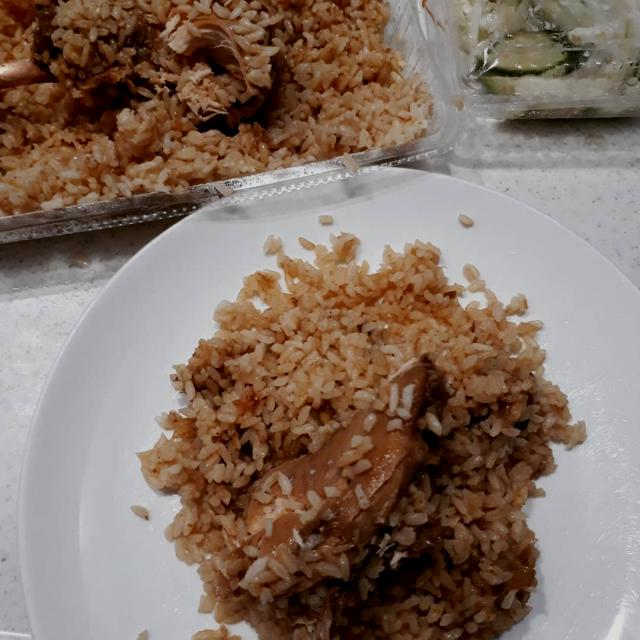biryani: (147, 187, 585, 640), (0, 0, 423, 247)
